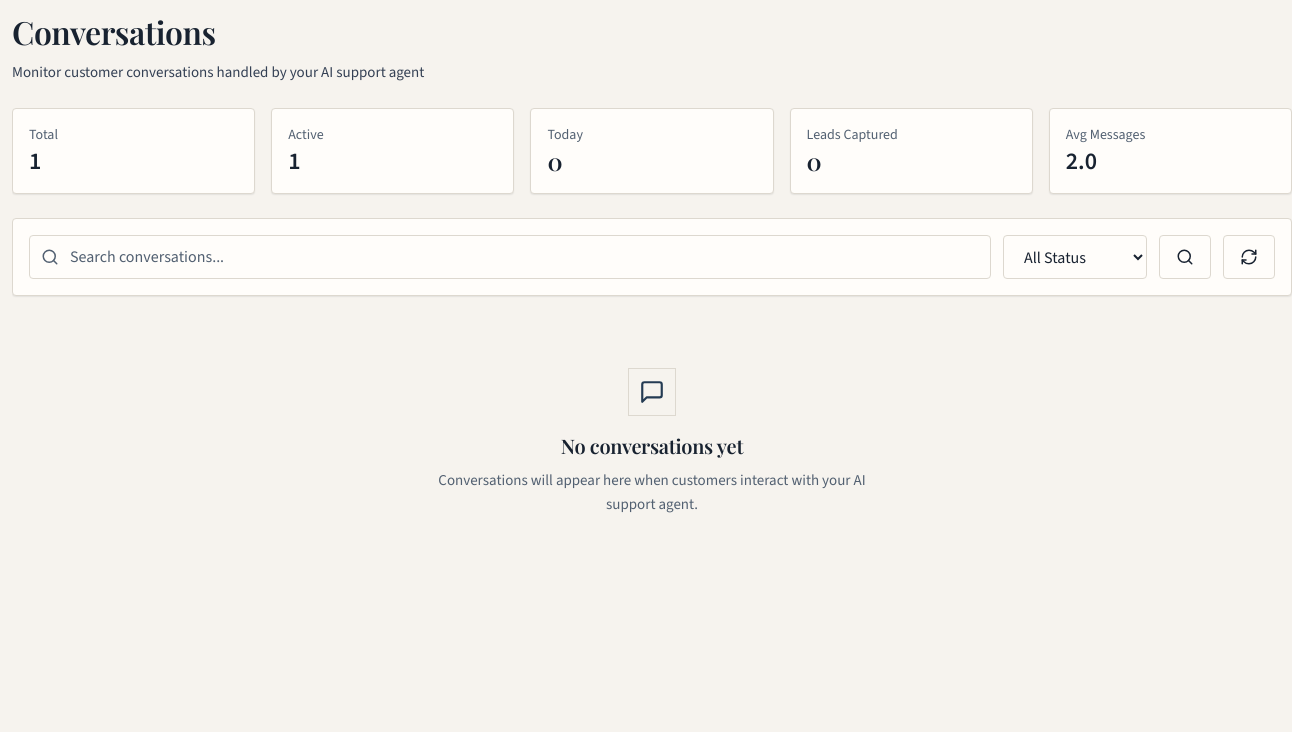
Scenario: Conversations search, filters, retry, and accessibility › sends status=ACTIVE and does not error on empty results
Select "Active" in the dropdown named "Status" at (1075, 257), box left=1003, top=235, right=1147, bottom=279
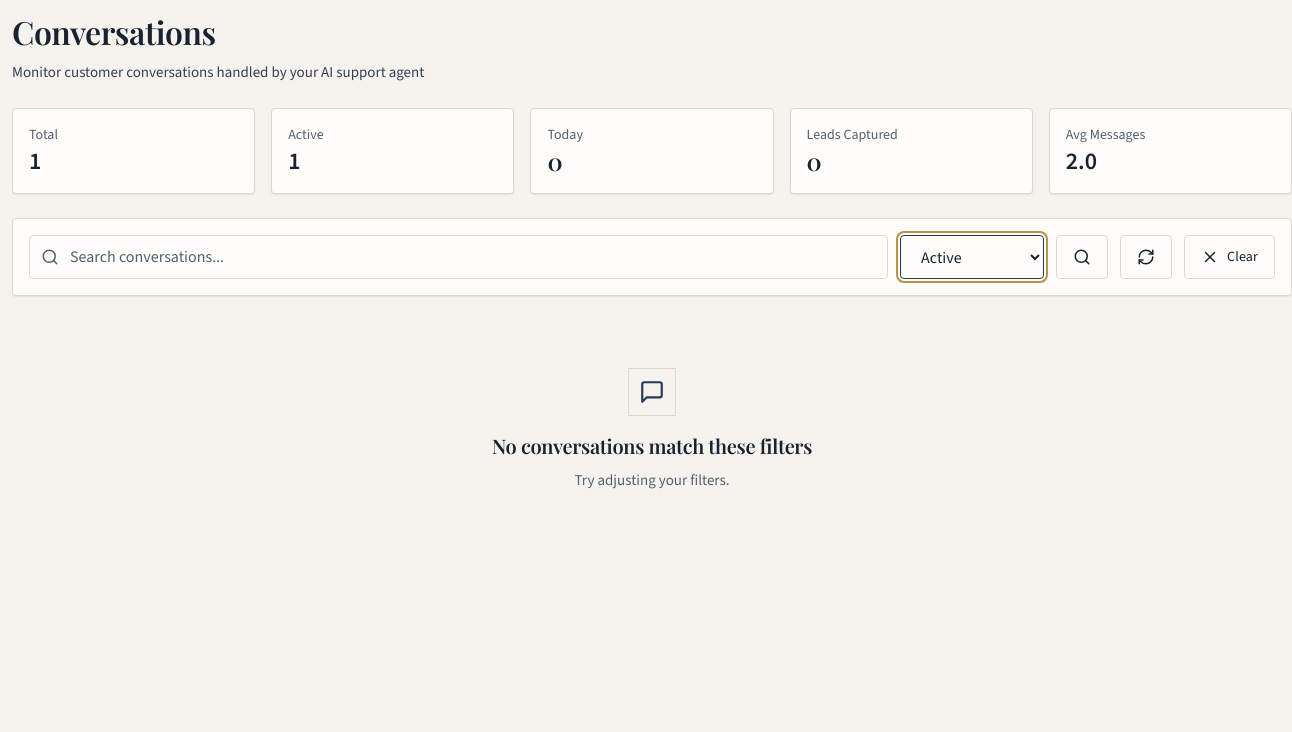
Expected: the text "No conversations match these filters" is shown, left=492, top=432, right=812, bottom=459
